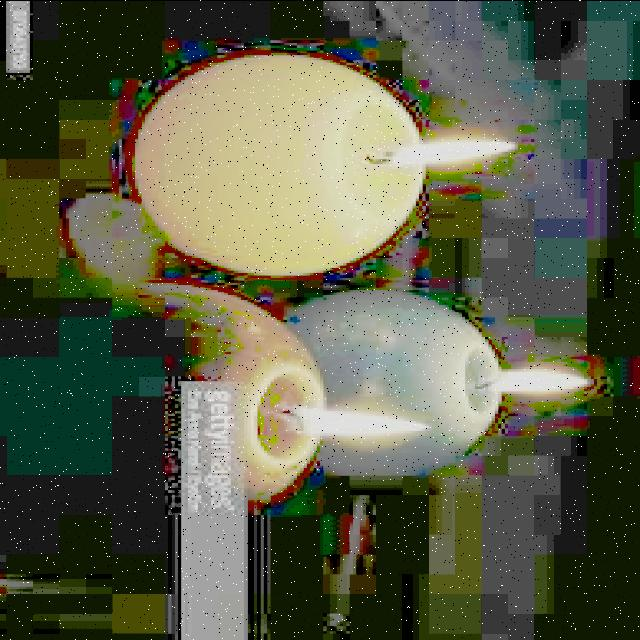api: (302, 396, 447, 446), (479, 360, 595, 414), (397, 125, 525, 169)
